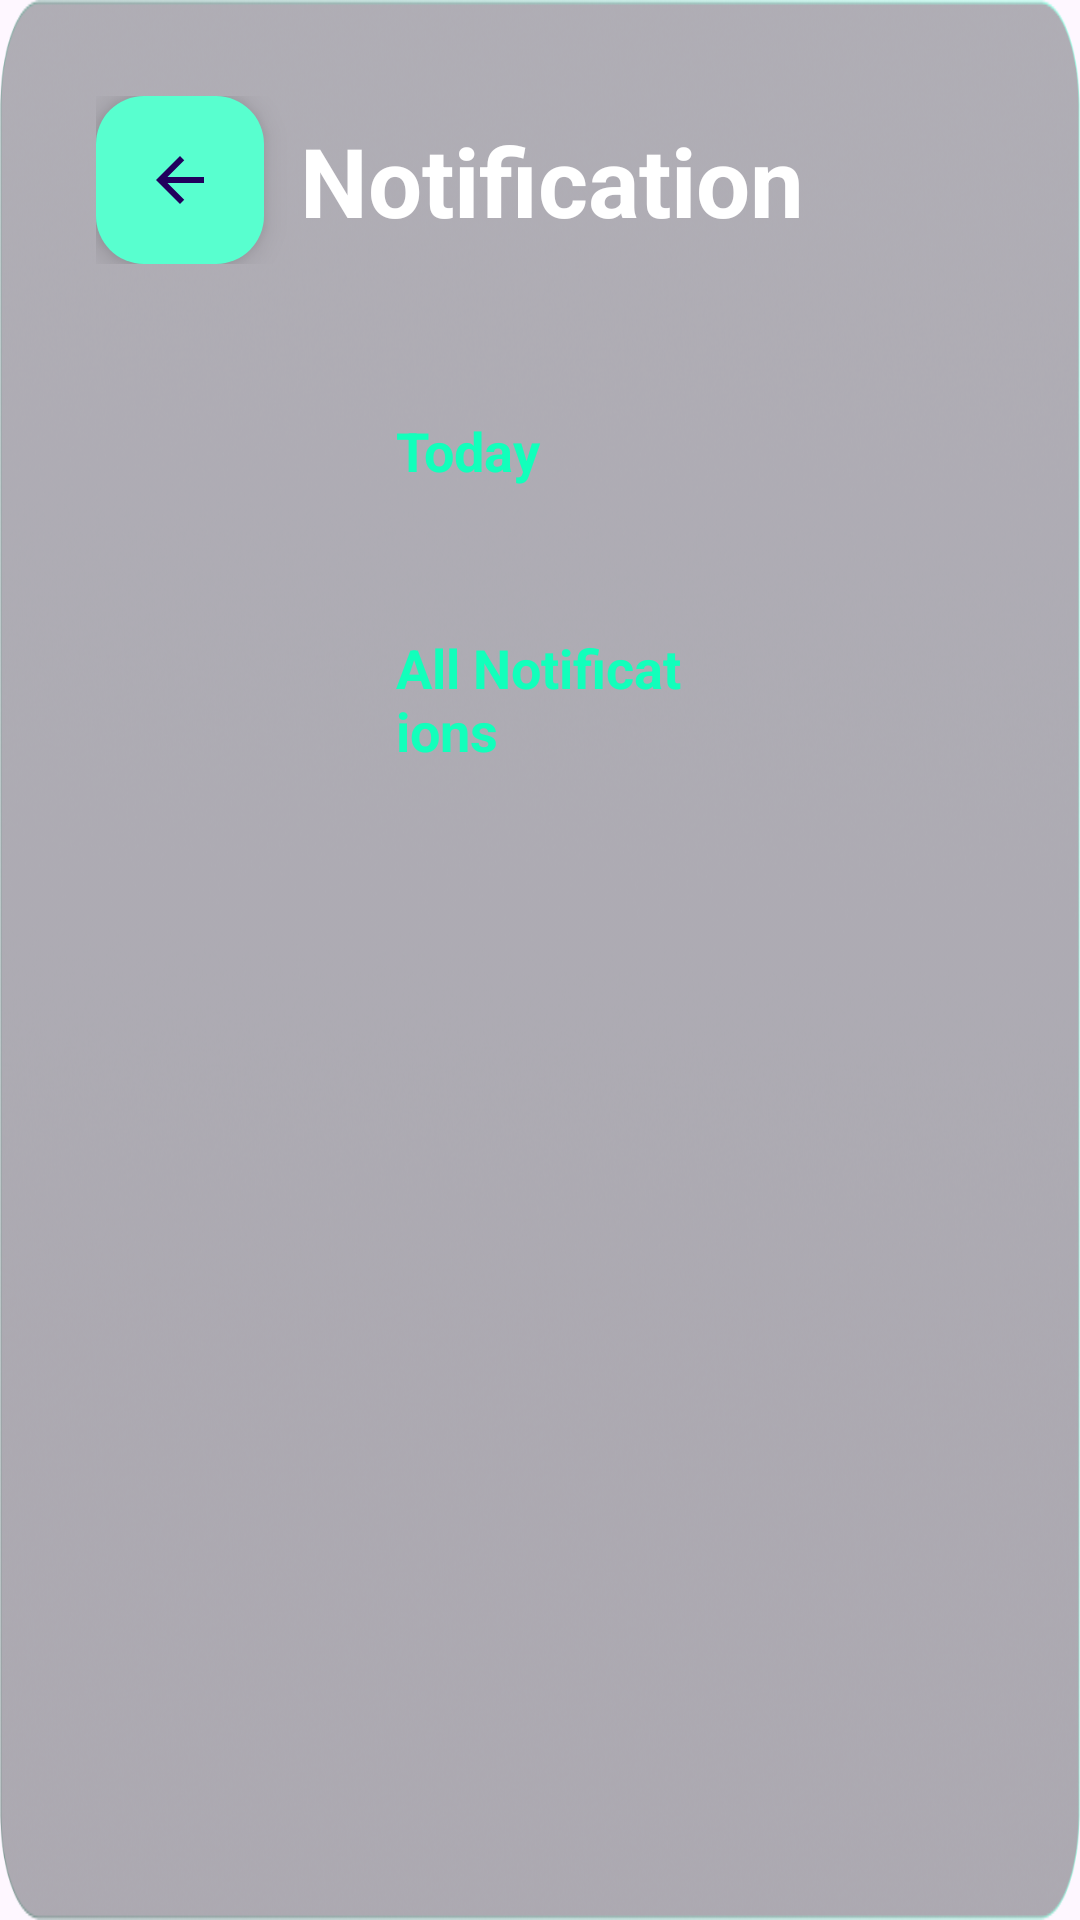

Point at icon controls on the screen. Image size 1080x1920, points as (x,y).
Back Button: (180,180)
